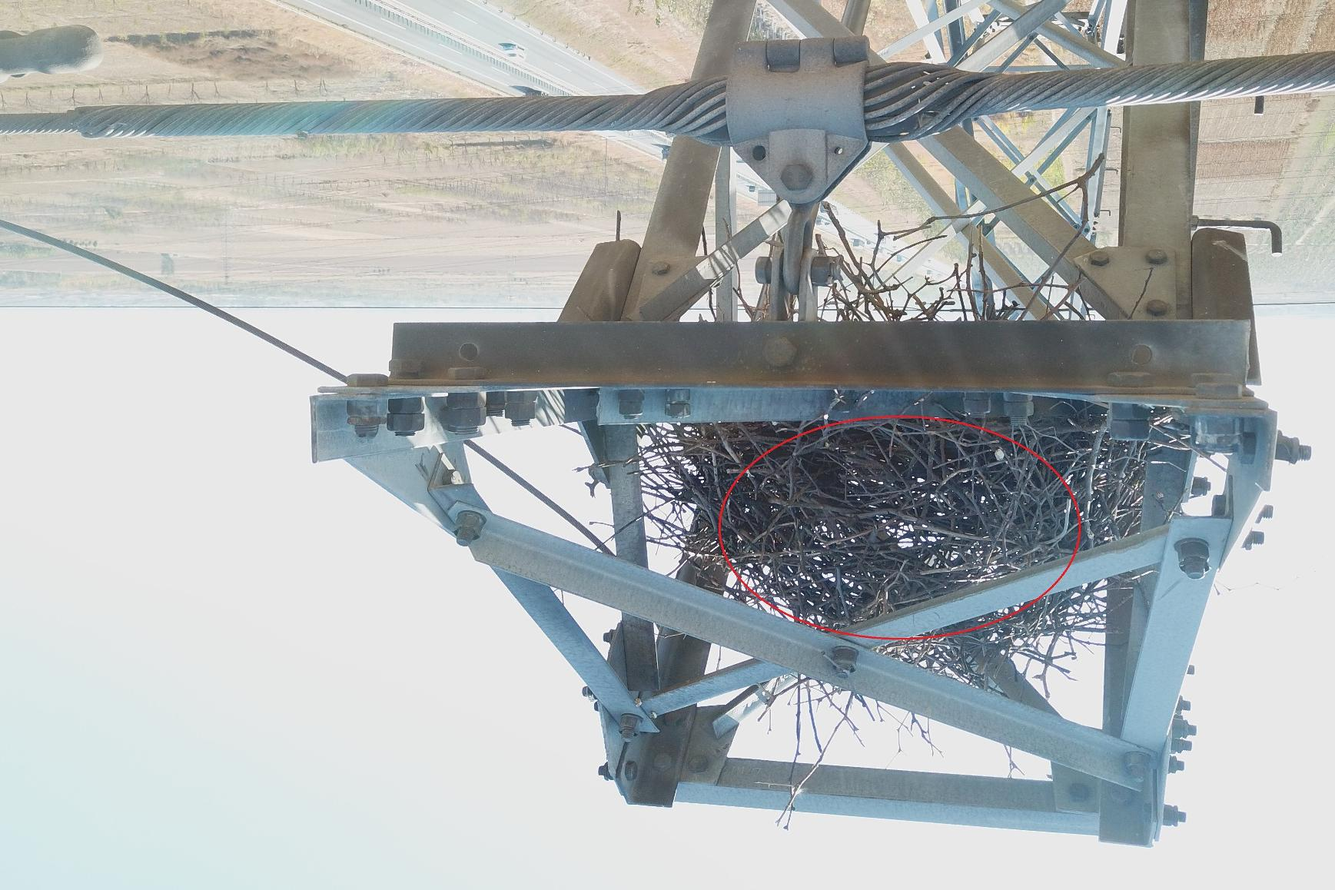nest: (609, 400, 1167, 684)
